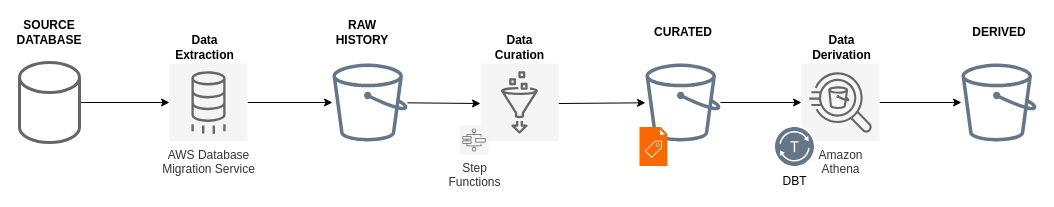
This 1054x207 diagram has some shape labels left out. The shapes that lost their labels are listed below. From the top down, each one's centre as x and y in pixels, then its label:
At point 519,102: "AWS Glue PySpark".
At point 653,146: "Iceberg".
